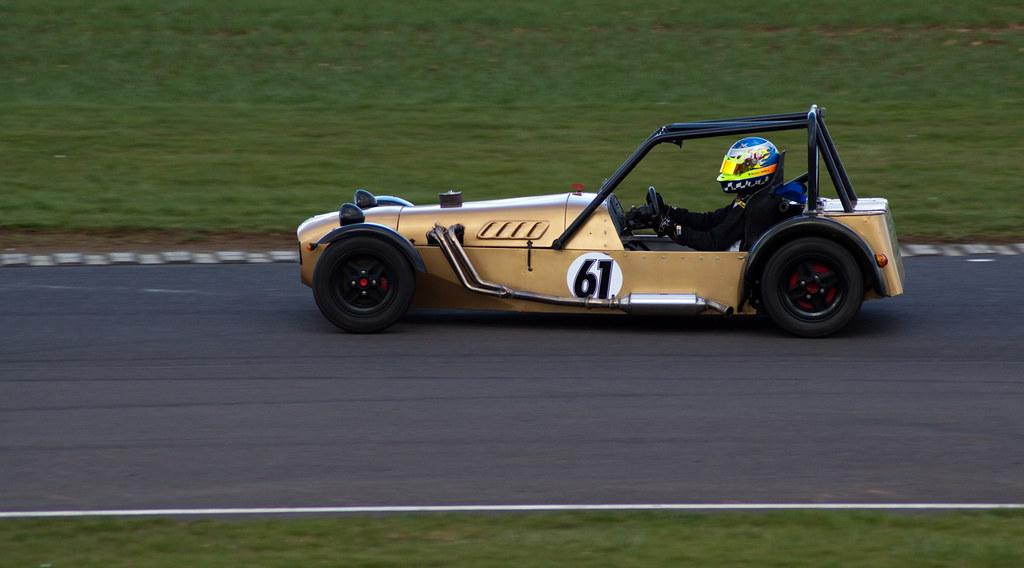car: (296, 105, 906, 338)
